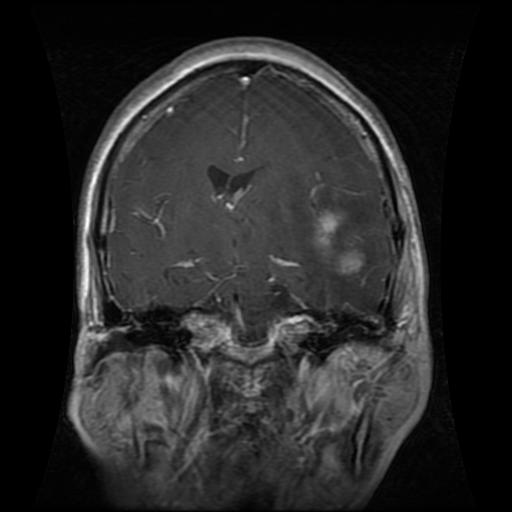Gliomia_tumour: (300, 184, 384, 280)
